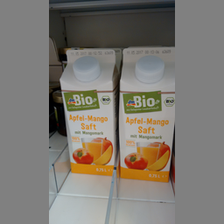juice: (118, 47, 175, 181), (60, 49, 118, 177)
